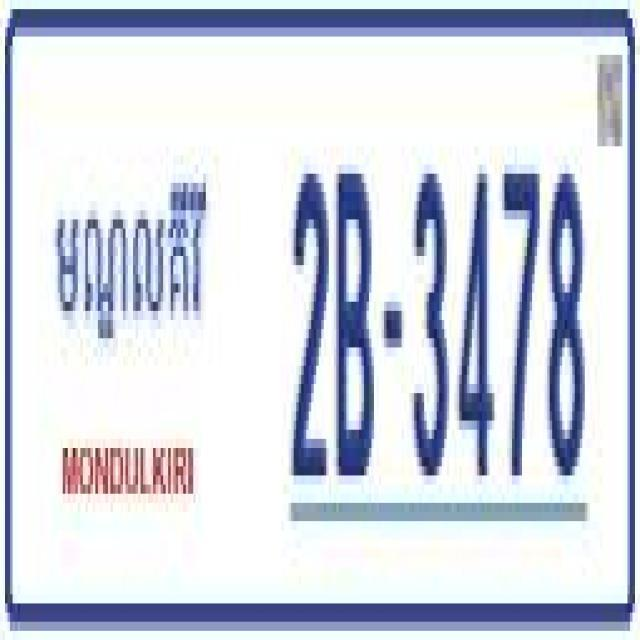Mondul_Kiri: (53, 156, 210, 374)
